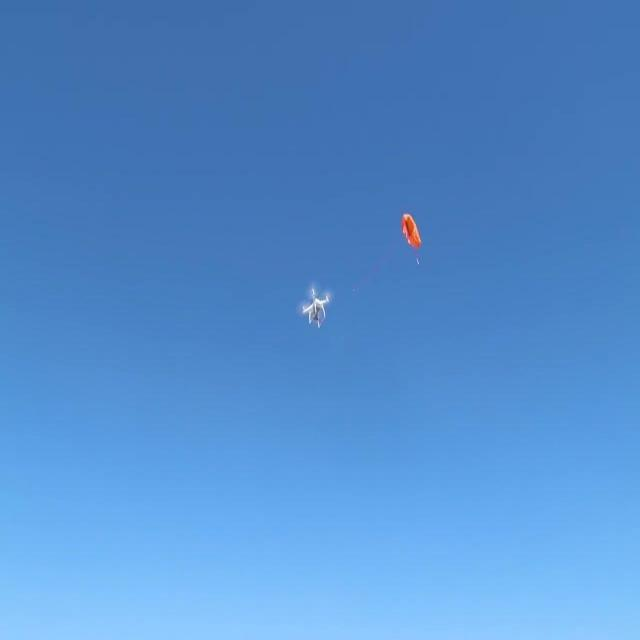UAV: (299, 286, 331, 328)
